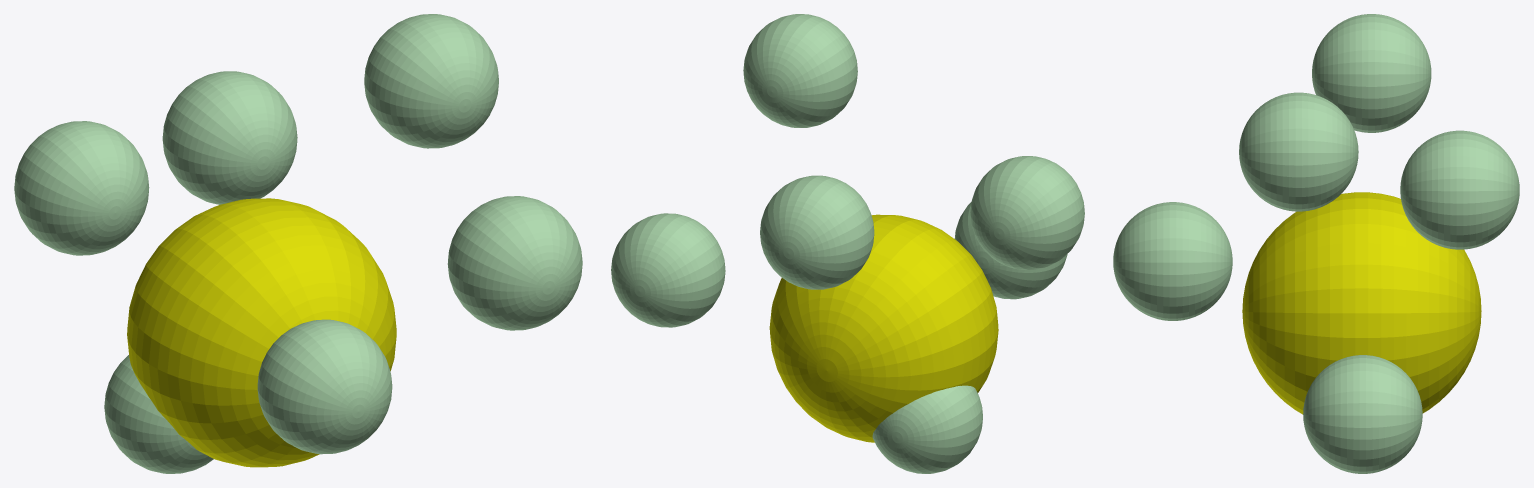
Rendered from Sulfur Hexafluoride.glb.
3 renders of one model, left to right at view 1: azimuth 30°, elevation 25°; view 2: azimuth 150°, elevation 25°; view 3: azimuth 270°, elevation 25°, orthographic. The views are drawn at different scales.
Visible parts, largest first — view 1: world; view 2: world; view 3: world.
Boxes of the visible parts, x1=… form: world: x1=14, y1=14, x2=582, y2=473; world: x1=611, y1=14, x2=1084, y2=473; world: x1=1113, y1=14, x2=1519, y2=473.
Size of the model in its own units: 4.66 by 3.58 by 3.4.
